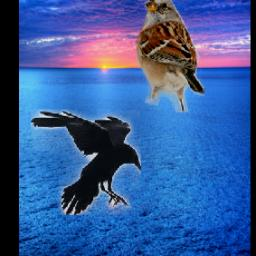Crow: (31, 110, 141, 216)
Sparrow: (136, 0, 205, 114)
